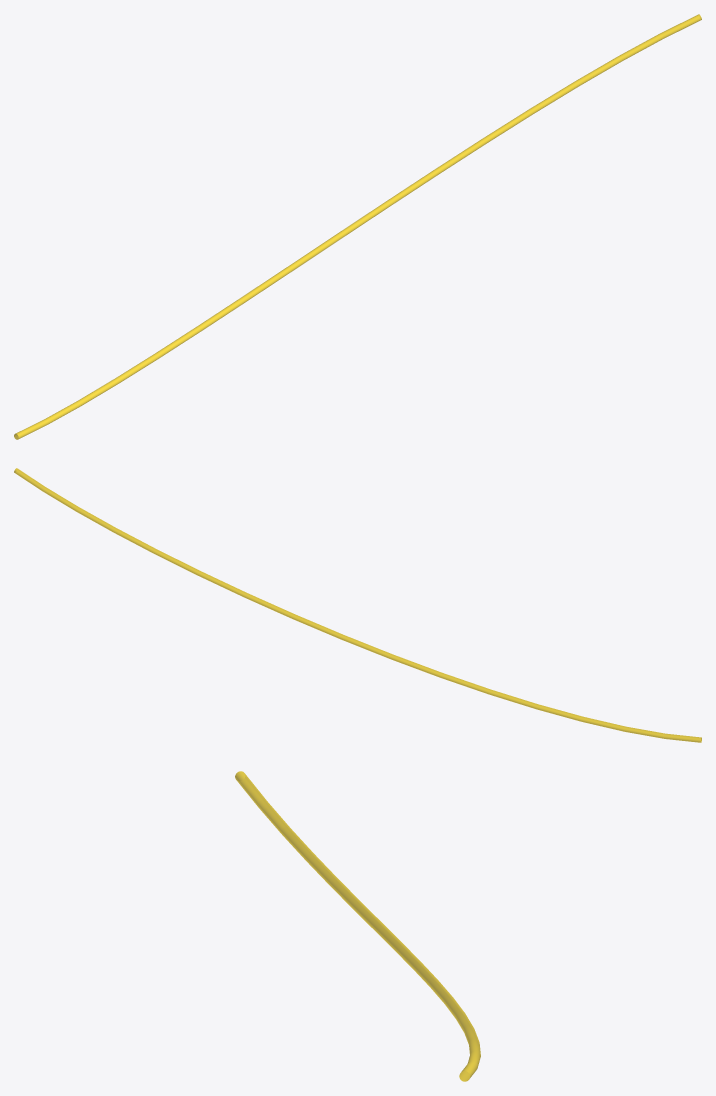
File: Event_100608114_track_117.fbx
3 renders of one model, top to bottom at view 1: azimuth 30°, elevation 25°; view 2: azimuth 150°, elevation 25°; view 3: azimuth 270°, elevation 25°, orthographic. The views are drawn at different scales.
Parts seen in each view (by area): view 1: Model; view 2: Model; view 3: Model.
Boxes of the visible parts, <box> form: Model: <box>14,14,701,439</box>; Model: <box>14,468,701,742</box>; Model: <box>235,771,480,1081</box>.
Bounding box in the file's own units: 5.35 × 1.31 × 0.9032.
